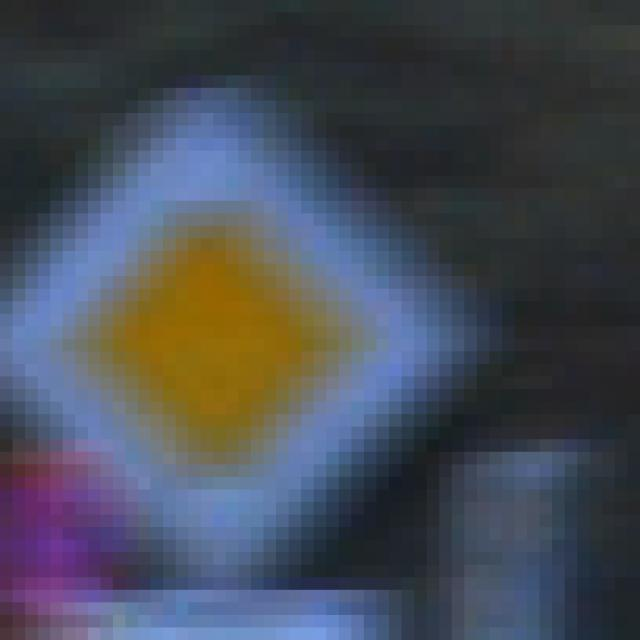Main Road: (64, 64, 578, 578)
